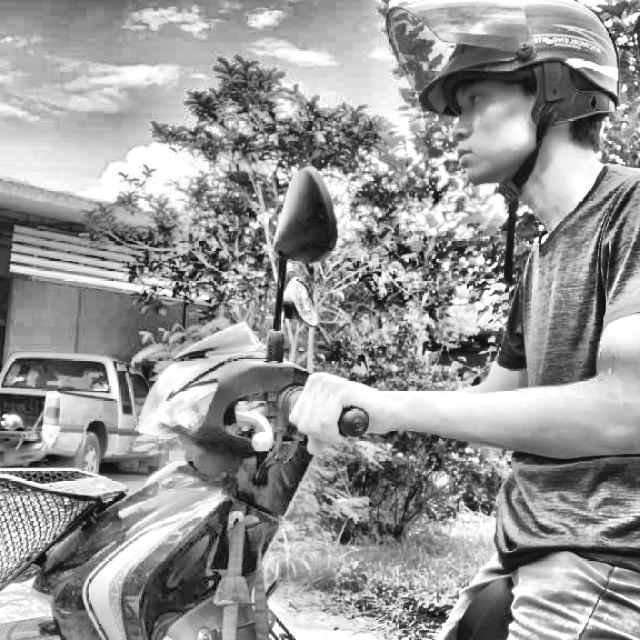Helmet: (384, 0, 626, 202)
